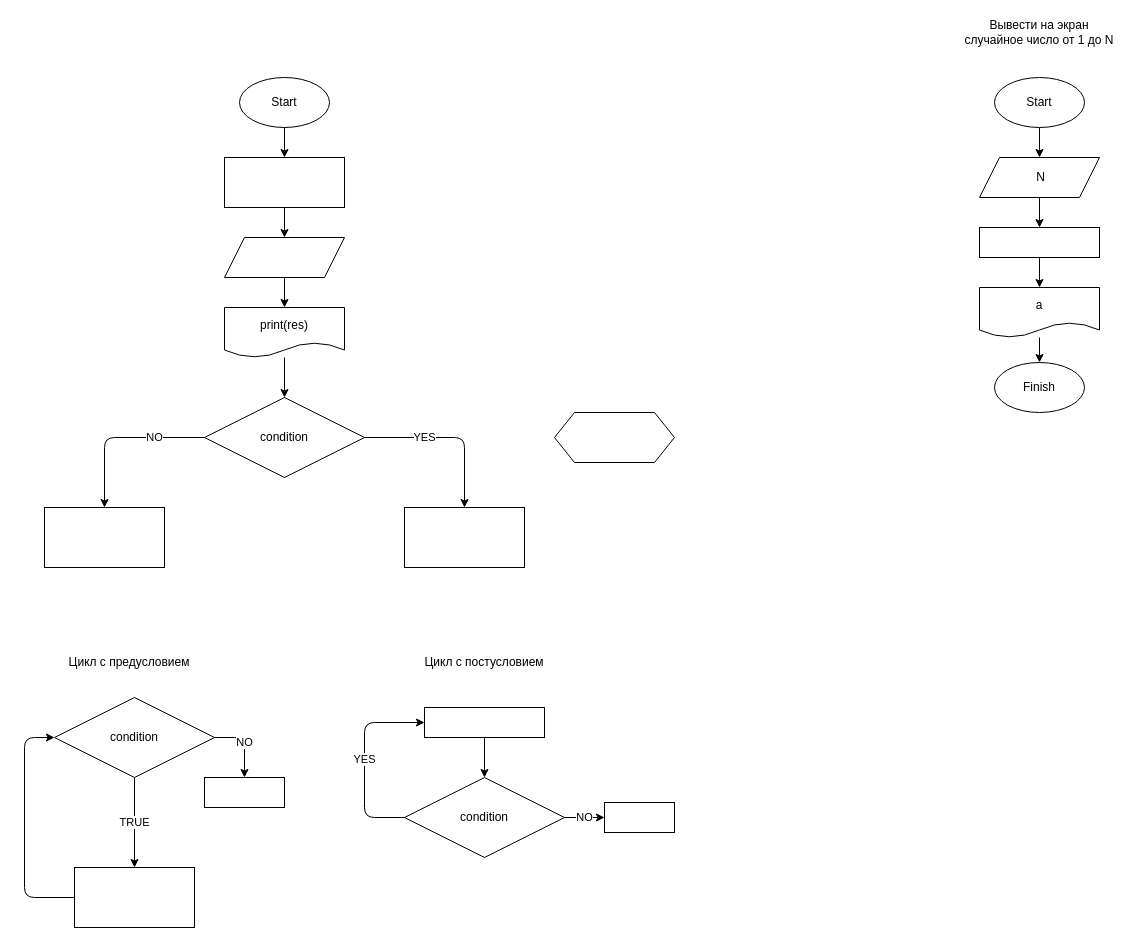
The diagram is 1137 pixels wide and 945 high, and some of its shapes have lost their labels. Each missing label, with the box of its shape:
a=irand(1:N): (978, 226, 1100, 258)
count: (224, 236, 344, 278)
count - 1,10,5: (554, 412, 674, 462)
count=0 res=1*sqrt(2): (224, 156, 344, 208)
